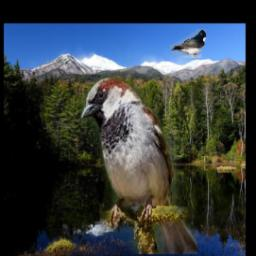Sparrow: (80, 77, 197, 255)
Swallow: (170, 30, 206, 59)
